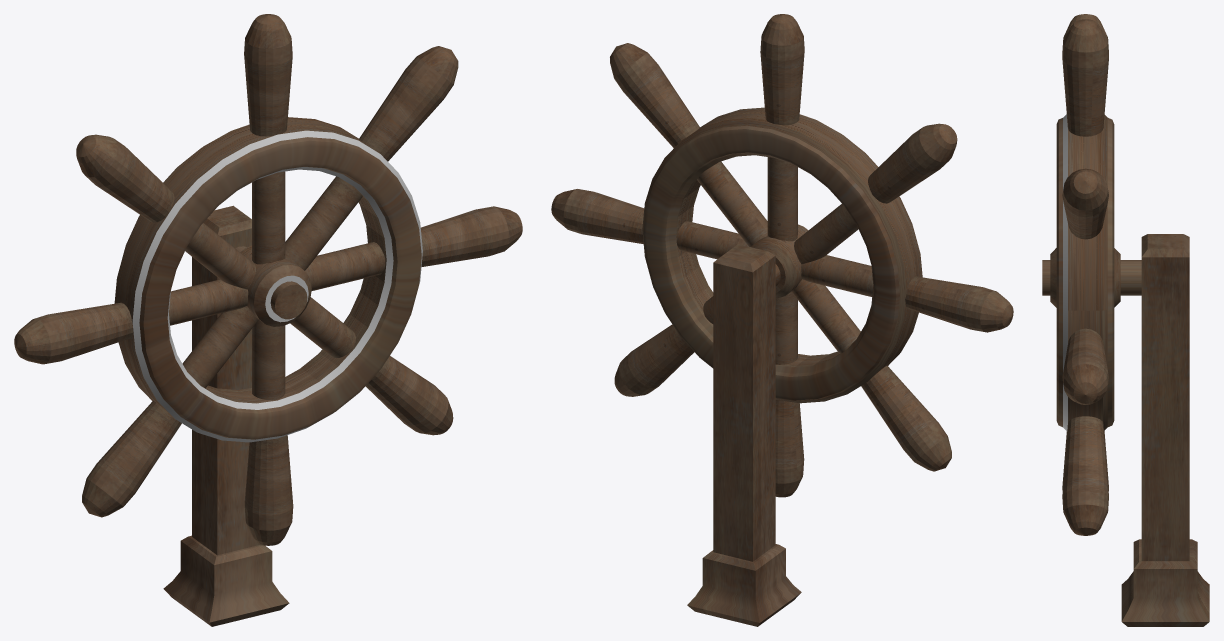
The model's file is pirateWheellv2.fbx.
3 renders of one model, left to right at view 1: azimuth 30°, elevation 25°; view 2: azimuth 150°, elevation 25°; view 3: azimuth 270°, elevation 25°, orthographic. The views are drawn at different scales.
Parts seen in each view (by area): view 1: pCylinder1, pCube1, pasted__pCylinder3 (×3), pasted__pasted__pCylinder3 (×2), pasted__pasted__pasted__pCylinder3 (×2), pasted__pasted__pCylinder4 (×3), pasted__pCylinder4 (×3), pCylinder3, pCylinder2, pCylinder4, pasted__pasted__pasted__pCylinder4; view 2: pCylinder1, pCube1, pasted__pCylinder3 (×3), pasted__pasted__pCylinder3 (×2), pasted__pasted__pasted__pCylinder3 (×2), pasted__pCylinder4 (×3), pasted__pasted__pCylinder4 (×2), pCylinder3, pCylinder4, pasted__pasted__pasted__pCylinder4, pCylinder2; view 3: pCube1, pCylinder1, pasted__pasted__pasted__pCylinder3 (×2), pCylinder3, pasted__pasted__pCylinder3, pCylinder2, pasted__pCylinder3.
Part boxes in pixels (x1=…): pCylinder1: x1=114, y1=117, x2=422, y2=442; pCube1: x1=163, y1=205, x2=289, y2=626; pasted__pCylinder3 (×3): x1=14, y1=134, x2=293, y2=545; pasted__pasted__pCylinder3 (×2): x1=82, y1=206, x2=522, y2=517; pasted__pasted__pasted__pCylinder3 (×2): x1=359, y1=46, x2=458, y2=435; pasted__pasted__pCylinder4 (×3): x1=285, y1=176, x2=385, y2=357; pasted__pCylinder4 (×3): x1=169, y1=223, x2=285, y2=400; pCylinder3: x1=244, y1=14, x2=292, y2=136; pCylinder2: x1=235, y1=245, x2=311, y2=326; pCylinder4: x1=252, y1=171, x2=285, y2=264; pasted__pasted__pasted__pCylinder4: x1=182, y1=306, x2=258, y2=388; pCylinder1: x1=642, y1=107, x2=922, y2=403; pCube1: x1=687, y1=244, x2=801, y2=626; pasted__pCylinder3 (×3): x1=775, y1=123, x2=1013, y2=497; pasted__pasted__pCylinder3 (×2): x1=551, y1=189, x2=951, y2=471; pasted__pasted__pasted__pCylinder3 (×2): x1=610, y1=43, x2=699, y2=396; pasted__pCylinder4 (×3): x1=775, y1=204, x2=873, y2=364; pasted__pasted__pCylinder4 (×2): x1=676, y1=161, x2=767, y2=259; pCylinder3: x1=760, y1=14, x2=804, y2=125; pCylinder4: x1=767, y1=157, x2=797, y2=241; pasted__pasted__pasted__pCylinder4: x1=791, y1=279, x2=860, y2=353; pCylinder2: x1=751, y1=224, x2=808, y2=298; pCube1: x1=1121, y1=234, x2=1209, y2=626; pCylinder1: x1=1056, y1=114, x2=1114, y2=431; pasted__pasted__pasted__pCylinder3 (×2): x1=1062, y1=168, x2=1108, y2=535; pCylinder3: x1=1062, y1=19, x2=1108, y2=136; pasted__pasted__pCylinder3: x1=1062, y1=328, x2=1108, y2=404; pCylinder2: x1=1042, y1=248, x2=1141, y2=307; pasted__pCylinder3: x1=1062, y1=14, x2=1108, y2=55.
Bounding box in the file's own units: 17.36 × 20.39 × 5.24.
